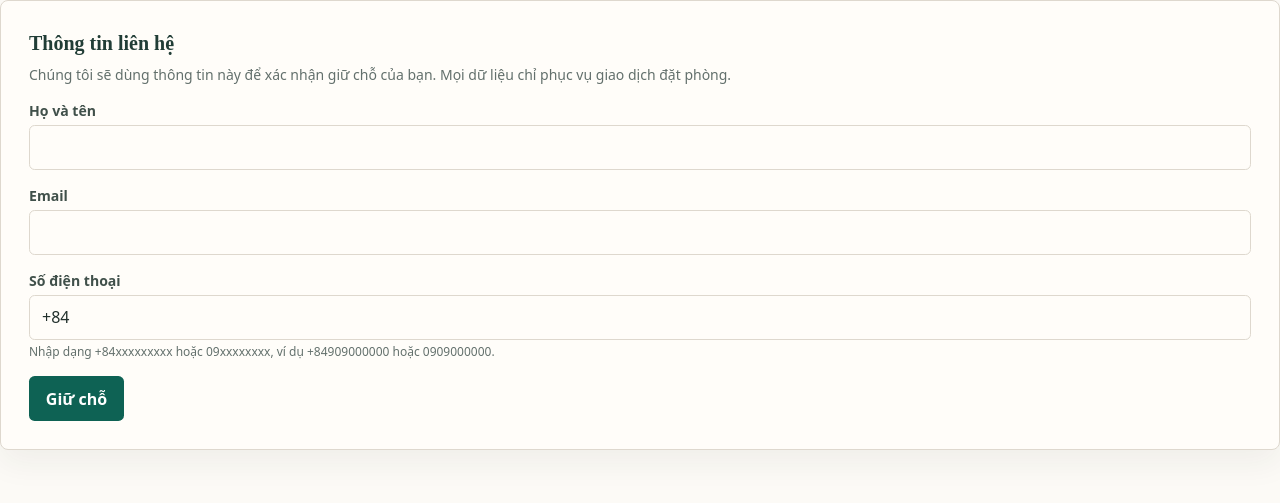
QuoteContactForm › blocks invalid email client-side and surfaces server errors safely
Type "A" into the field labelled "Họ và tên".
click(640, 148); type("A")  # box [29,125,1251,170]
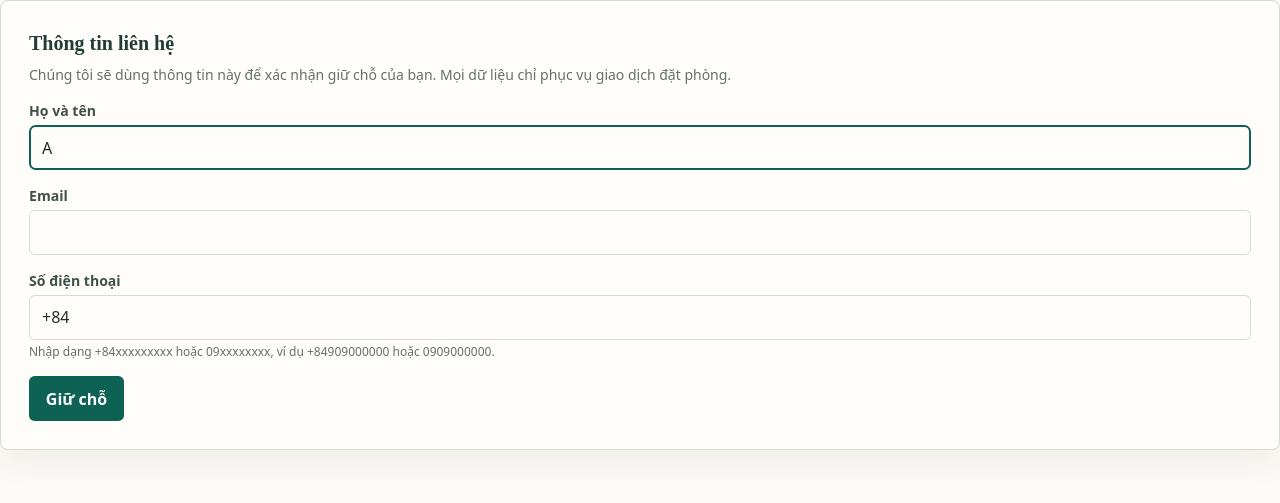
Type "not-an-email" into the field labelled "Email".
click(640, 232); type("not-an-email")  # box [29,210,1251,255]
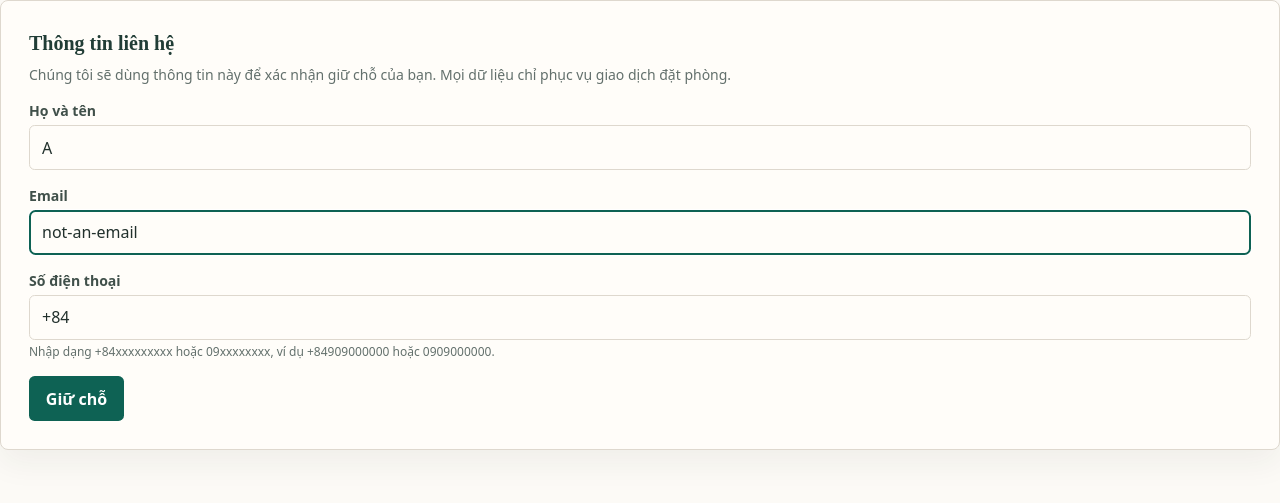
Replace the text in the field labelled "Số điện thoại" with "+84909000000" at (640, 317), box [29,295,1251,340]
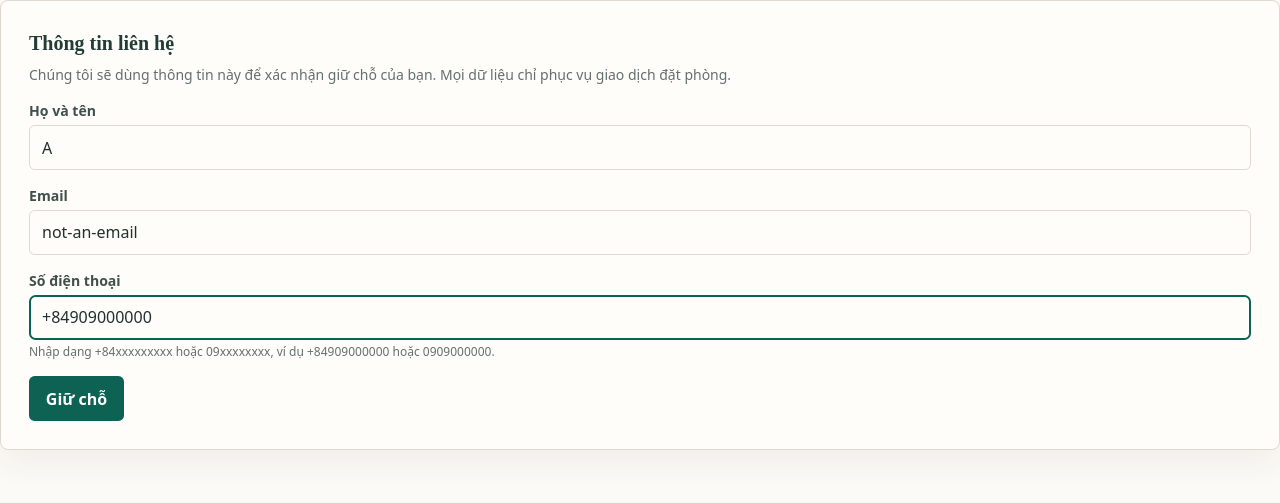
Click the button "Giữ chỗ".
click(76, 398)  # box [29,376,124,421]
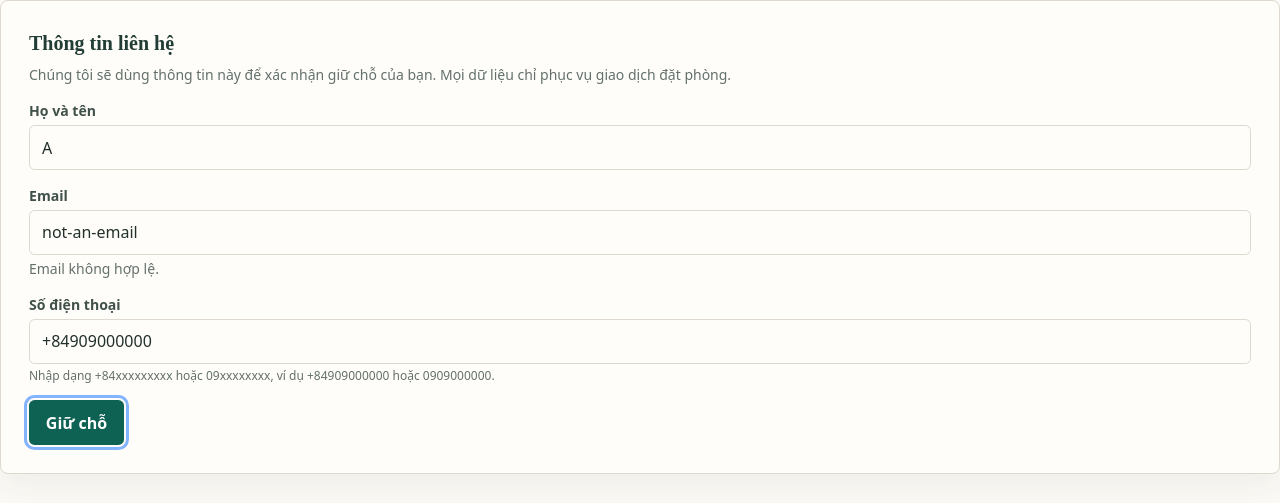
Expected: the text "Email không hợp lệ." is shown, [29,259,159,278]
Replace the text in the field labelled "Email" with "guest@example.test" at (640, 232), box [29,210,1251,255]
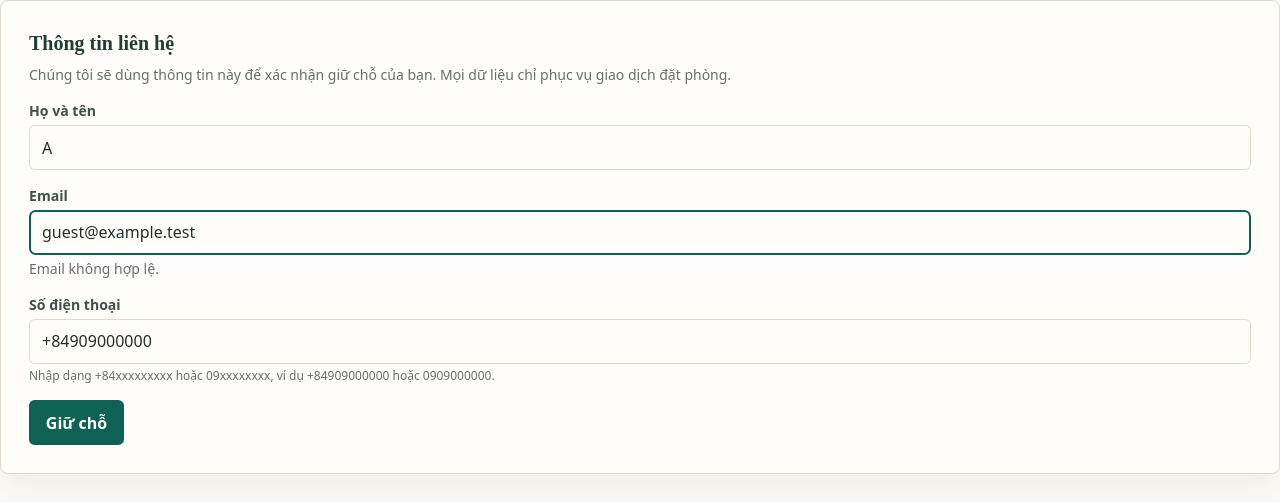
Click the button "Giữ chỗ".
click(76, 422)  # box [29,400,124,445]
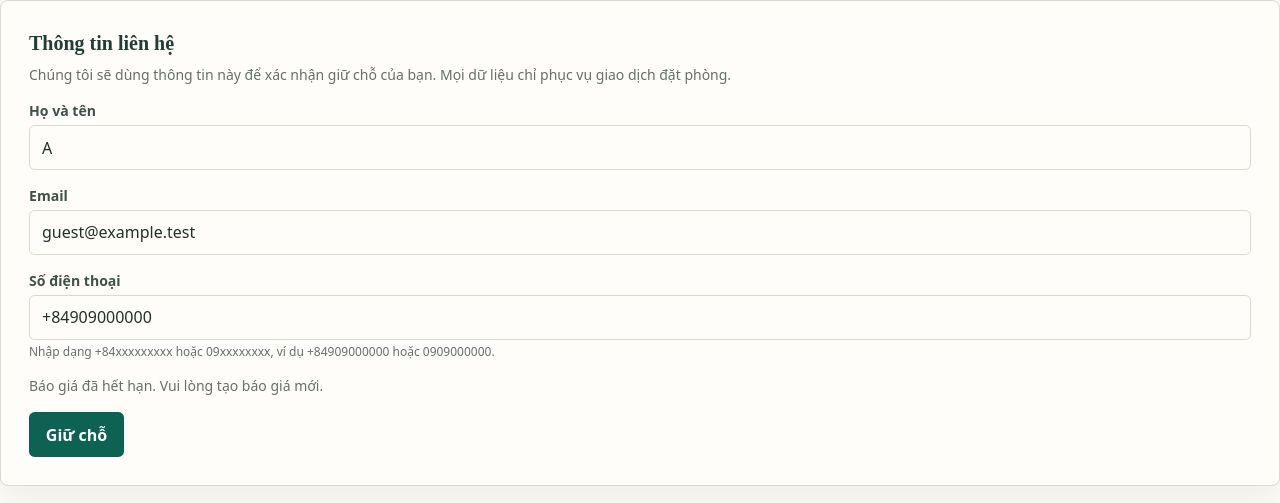
Expected: the text "Báo giá đã hết hạn. Vui lòng tạo báo giá mới." is shown, [29,376,323,395]
